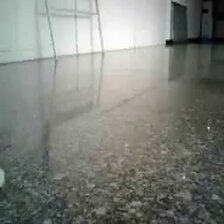tennis: (56, 182, 97, 224), (1, 66, 13, 91)
